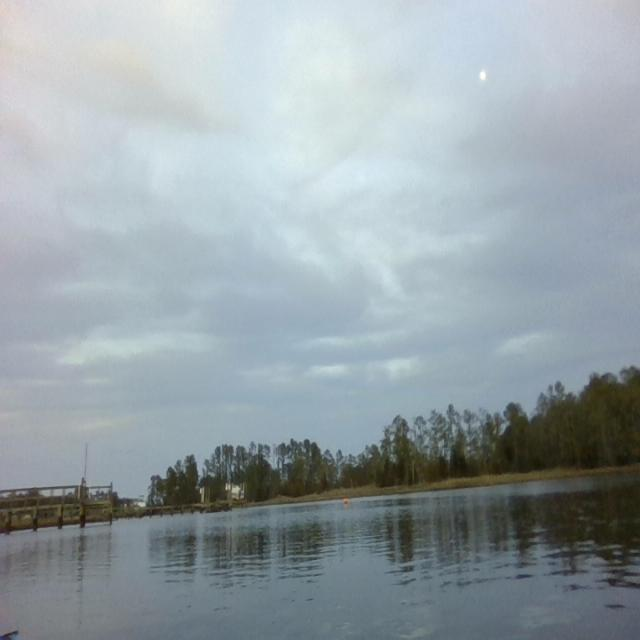Buoy: (342, 496, 349, 507)
